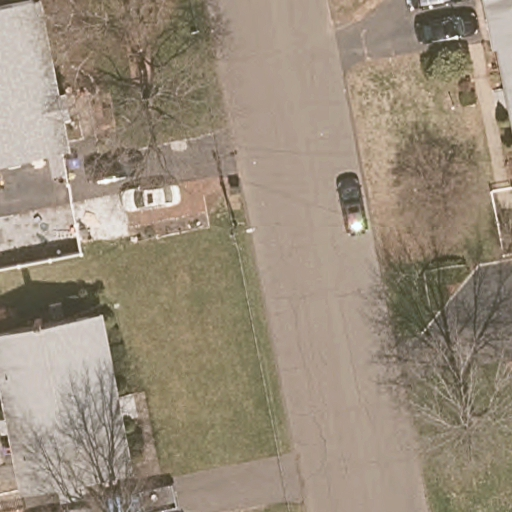DT: (227, 203, 256, 241)
